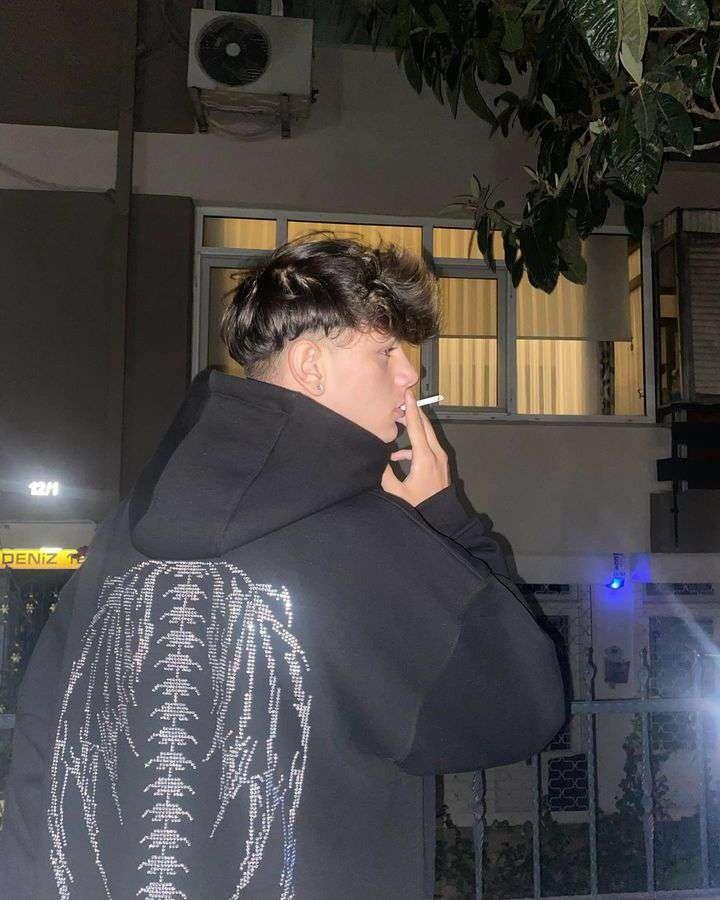cigarette: (400, 395, 445, 410)
